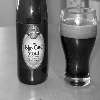beer: (57, 5, 96, 95)
